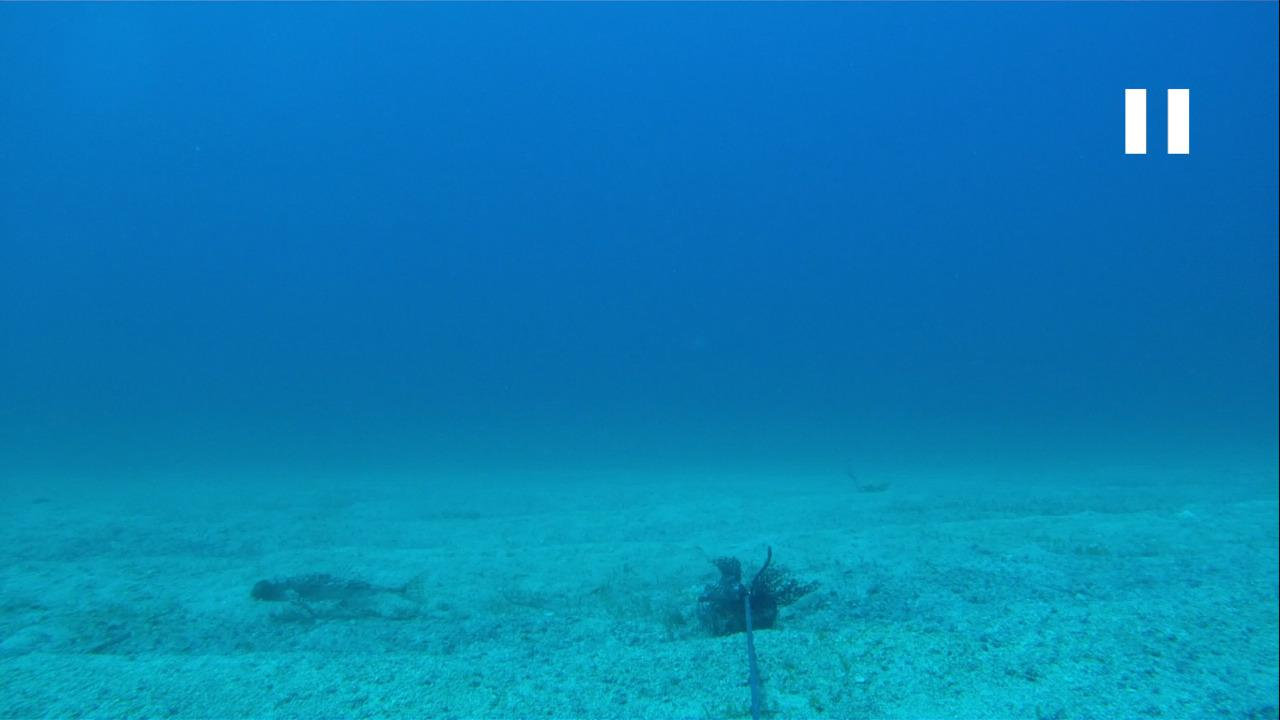dactylopterus: (248, 567, 440, 624)
